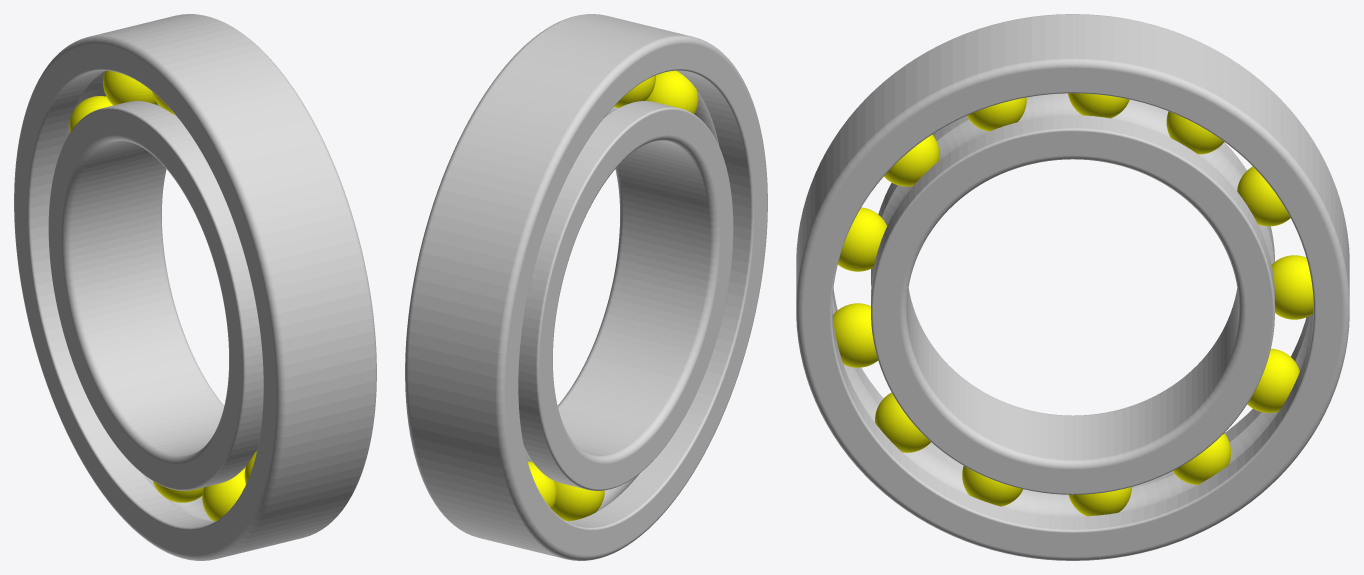
File: model_web.glb
3 views of the same model, side by side, from view 1: azimuth 30°, elevation 25°; view 2: azimuth 150°, elevation 25°; view 3: azimuth 270°, elevation 25° (orthographic). The views are drawn at different scales.
Visible parts, largest first — view 1: Node1, Node2; view 2: Node1, Node2; view 3: Node1, Node2.
Boxes of the visible parts, x1,y1,x2,y2 form: Node1: [14, 14, 376, 560]; Node2: [69, 70, 256, 521]; Node1: [405, 14, 767, 560]; Node2: [527, 70, 698, 521]; Node1: [796, 14, 1349, 560]; Node2: [833, 93, 1313, 516].
Size of the model in its own units: 16 by 75 by 74.98.
